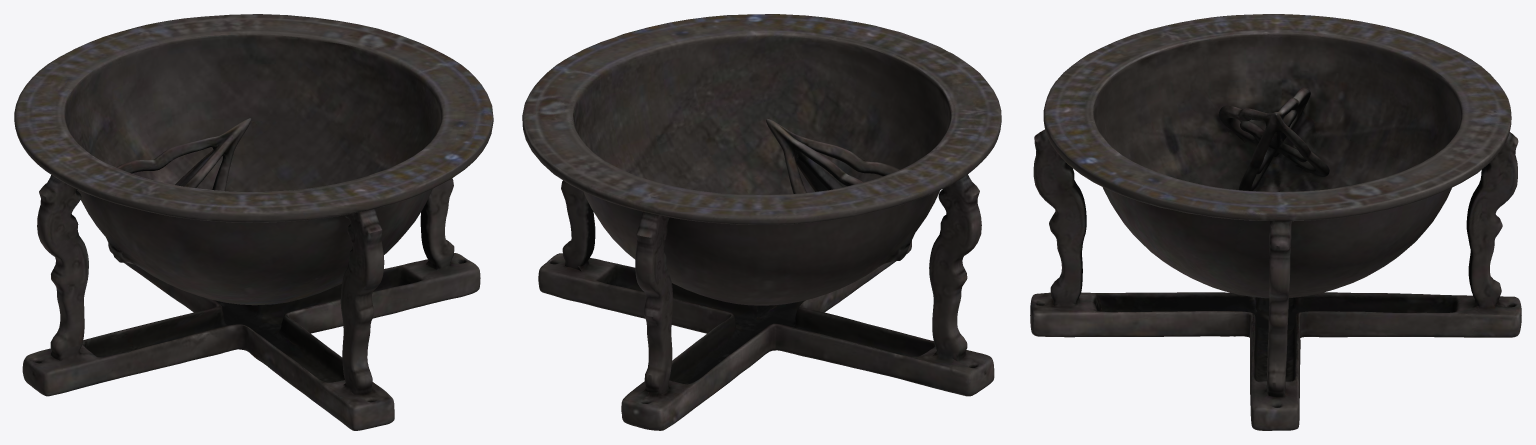
File: angbu.glb
3 renders of one model, left to right at view 1: azimuth 30°, elevation 25°; view 2: azimuth 150°, elevation 25°; view 3: azimuth 270°, elevation 25°, orthographic. The views are drawn at different scales.
Parts seen in each view (by area): view 1: Object_2; view 2: Object_2; view 3: Object_2.
Boxes of the visible parts, bbox=[...] form: Object_2: bbox=[14, 14, 493, 430]; Object_2: bbox=[522, 14, 1001, 430]; Object_2: bbox=[1030, 14, 1521, 430].
Size of the model in its own units: 371 by 182 by 369.
Materials: 1 (1 with a texture image).
